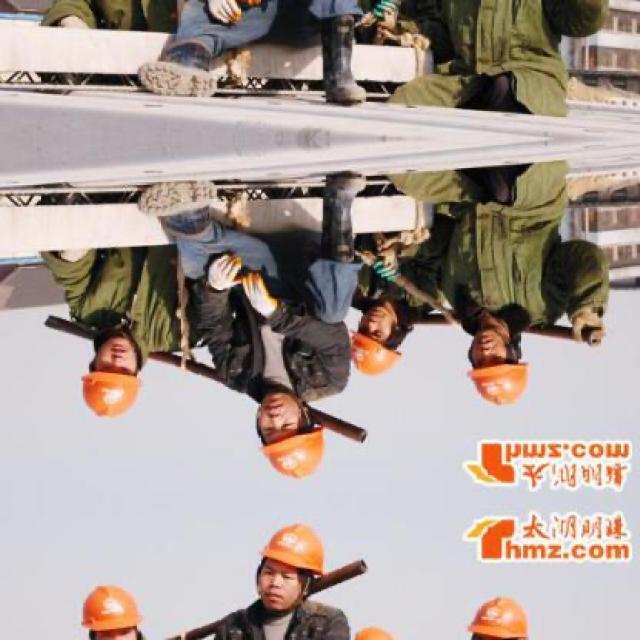con casco: (54, 342, 134, 420), (320, 315, 401, 379), (249, 411, 326, 472), (447, 352, 518, 412)
